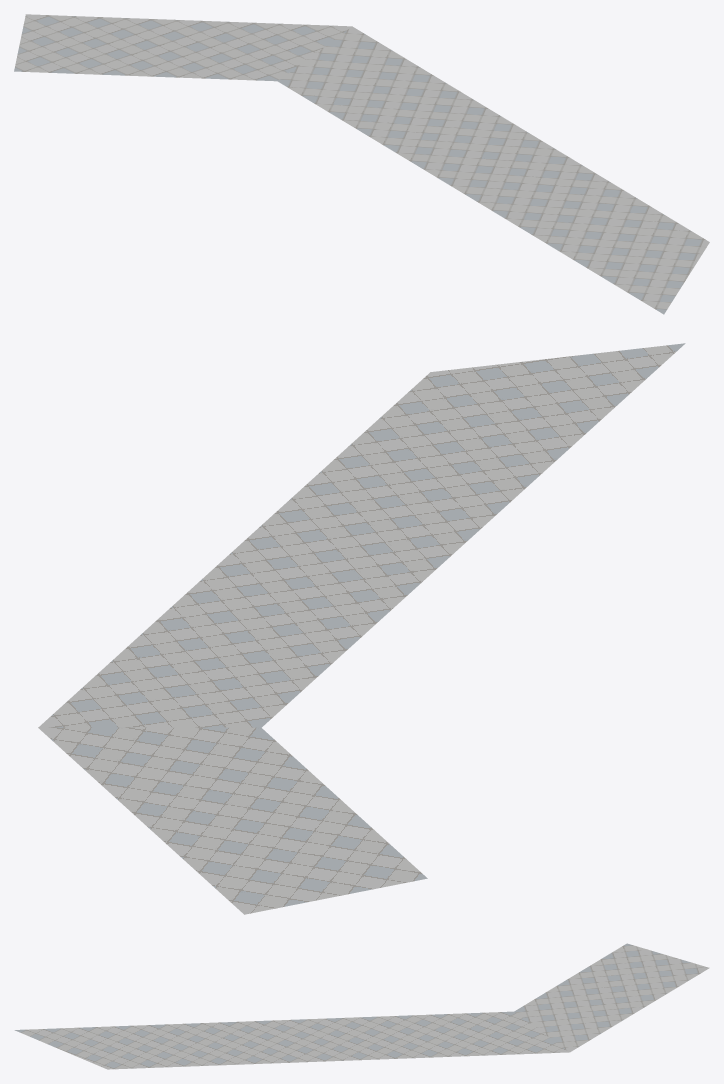
Rendered from kd_stage_13612f_4_40.glb.
3 renders of one model, top to bottom at view 1: azimuth 30°, elevation 25°; view 2: azimuth 150°, elevation 25°; view 3: azimuth 270°, elevation 25°, orthographic. The views are drawn at different scales.
Visible parts, largest first — view 1: kd_stage_13612f_4_40; view 2: kd_stage_13612f_4_40; view 3: kd_stage_13612f_4_40.
Part boxes in pixels (bbox=[...]): kd_stage_13612f_4_40: bbox=[14, 14, 709, 314]; kd_stage_13612f_4_40: bbox=[38, 343, 685, 914]; kd_stage_13612f_4_40: bbox=[14, 943, 709, 1069].
Bounding box in the file's own units: 5.01 × 5.36e-07 × 11.68.
1 material, 1 textured.
